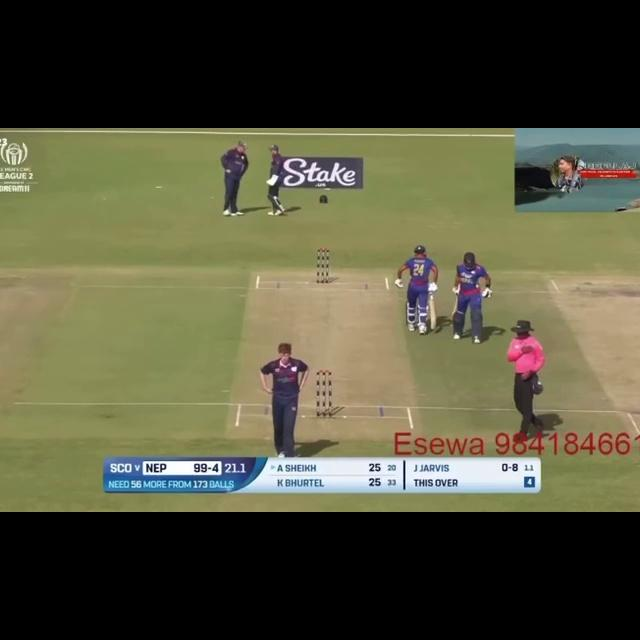umpire: (502, 314, 553, 441)
